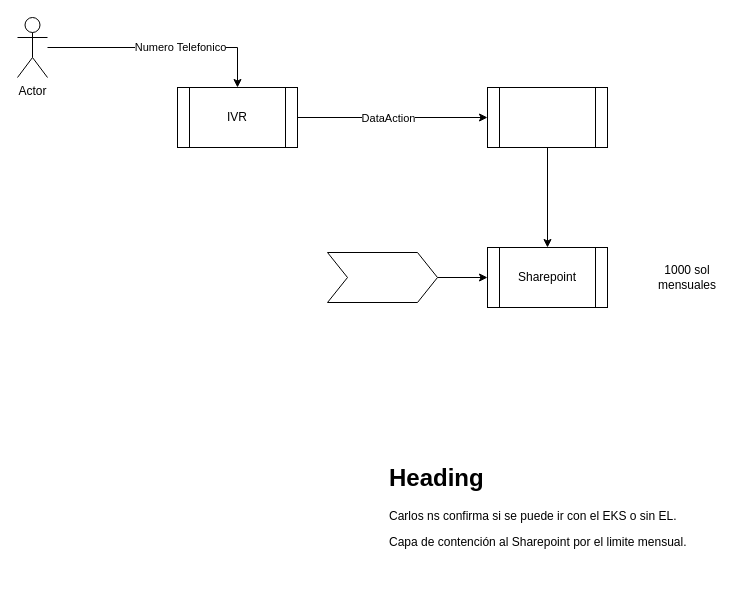
The diagram is 735 pixels wide and 598 high, and some of its shapes have lost their labels. The shapes that lost their labels are listed below. From the top down, each one's box as (x1, y1, x2, y2) in pixels, then its label:
(486, 86, 608, 148): Lambda
(326, 252, 438, 302): Secret Manager
